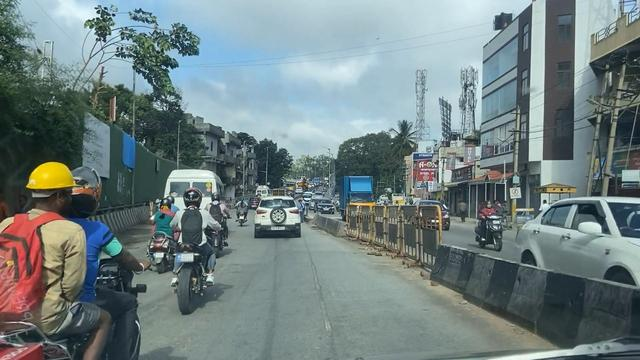LMV: (172, 192, 217, 310), (253, 197, 299, 235)
UnsurfacedRoad: (300, 242, 337, 360)
